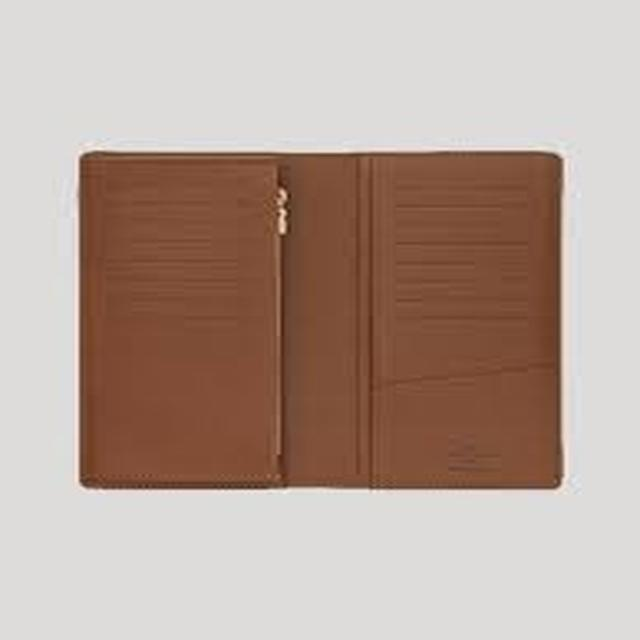wallet: (62, 120, 595, 521)
